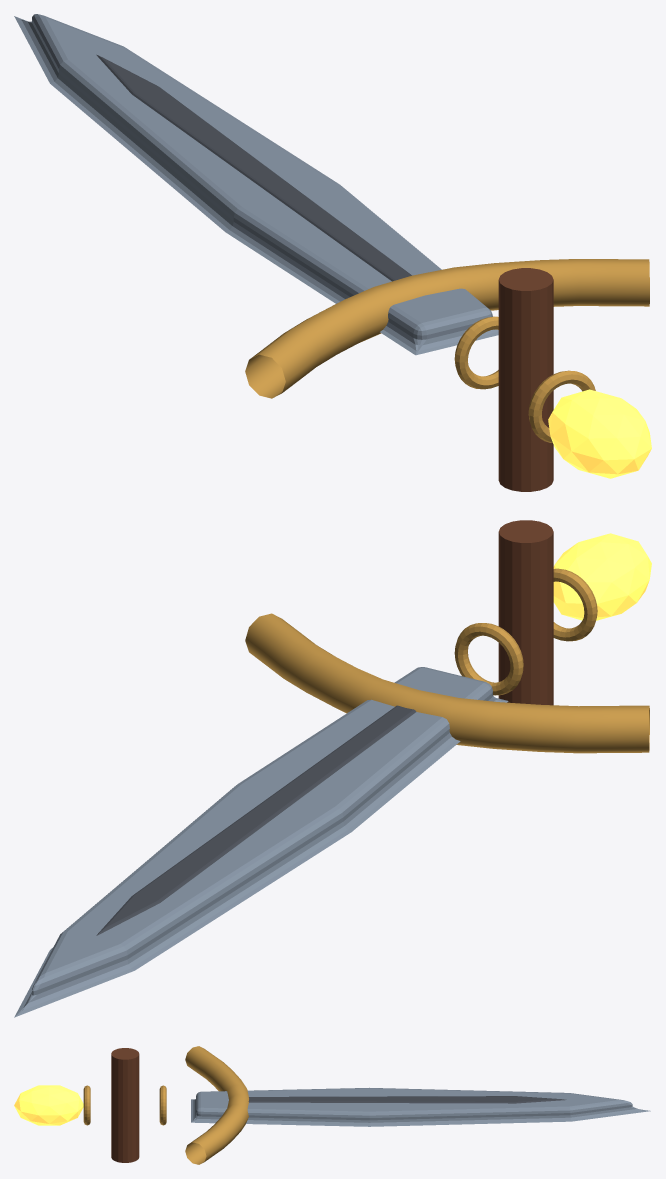
The model's file is weapon_solaris_blade.glb.
The picture shows the model from 3 angles, top to bottom: view 1: azimuth 30°, elevation 25°; view 2: azimuth 150°, elevation 25°; view 3: azimuth 270°, elevation 25°; orthographic projection. The views are drawn at different scales.
Visible parts, largest first — view 1: Solaris_Blade, SunGuard, Grip, Solaris_Fuller, Pommel, GripRing1, GripRing2; view 2: Solaris_Blade, SunGuard, Grip, Solaris_Fuller, Pommel, GripRing1, GripRing2; view 3: Solaris_Blade, SunGuard, Grip, Pommel, Solaris_Fuller, GripRing1, GripRing2.
Boxes of the visible parts, box(x1,y1,x2,y2) form: Solaris_Blade: box(14, 14, 498, 355); SunGuard: box(245, 259, 649, 398); Grip: box(498, 268, 553, 491); Solaris_Fuller: box(96, 54, 411, 281); Pommel: box(548, 389, 651, 478); GripRing1: box(454, 316, 498, 389); GripRing2: box(528, 370, 595, 442); Solaris_Blade: box(14, 667, 508, 1017); SunGuard: box(245, 613, 649, 753); Grip: box(498, 520, 553, 705); Solaris_Fuller: box(96, 705, 416, 935); Pommel: box(553, 533, 651, 620); GripRing1: box(454, 623, 523, 695); GripRing2: box(553, 568, 597, 641); Solaris_Blade: box(191, 1087, 650, 1126); SunGuard: box(185, 1046, 248, 1164); Grip: box(111, 1048, 139, 1162); Pommel: box(14, 1085, 83, 1125); Solaris_Fuller: box(248, 1096, 566, 1103); GripRing1: box(159, 1085, 166, 1125); GripRing2: box(83, 1085, 90, 1125).
Bounding box in the file's own units: 0.8837 × 0.42 × 2.35.
